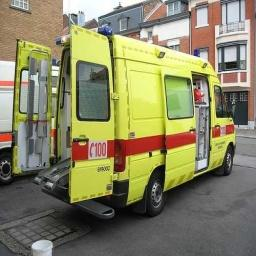Ambulance: (13, 26, 235, 217), (0, 61, 14, 184)
